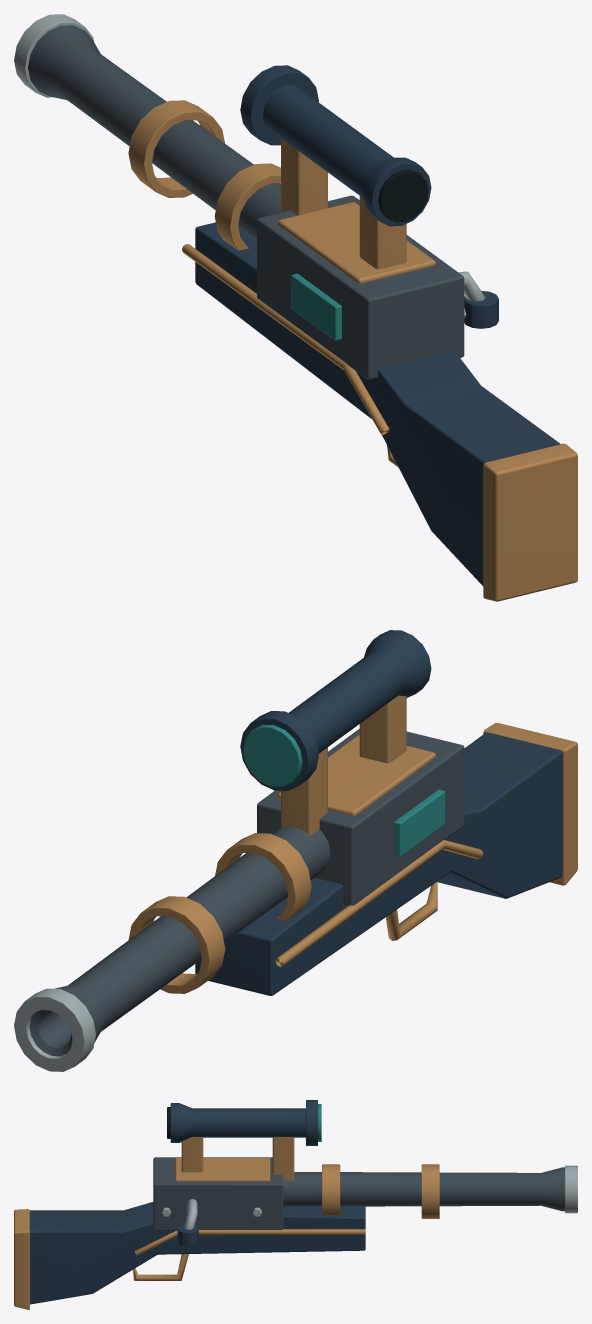
File: rifle.glb
3 renders of one model, top to bottom at view 1: azimuth 30°, elevation 25°; view 2: azimuth 150°, elevation 25°; view 3: azimuth 270°, elevation 25°, orthographic. The views are drawn at different scales.
Visible parts, largest first — view 1: rifle__navy_stock, rifle__receiver, rifle__precision_barrel, rifle__butt_plate, rifle__optic_tube, rifle__breech_cover, rifle__floating_barrel_brace_0, rifle__optic_pedestal_0, rifle__foregrip_trim_neg0p072, rifle__floating_barrel_brace_1, rifle__optic_pedestal_1, rifle__optic_back_lens (+3 smaller); view 2: rifle__navy_stock, rifle__precision_barrel, rifle__receiver, rifle__optic_tube, rifle__breech_cover, rifle__muzzle_crown, rifle__floating_barrel_brace_0, rifle__butt_plate, rifle__floating_barrel_brace_1, rifle__optic_front_lens, rifle__optic_pedestal_1, rifle__optic_pedestal_0 (+3 smaller); view 3: rifle__navy_stock, rifle__precision_barrel, rifle__receiver, rifle__optic_tube, rifle__breech_cover, rifle__butt_plate, rifle__foregrip_trim_0p072, rifle__floating_barrel_brace_0, rifle__floating_barrel_brace_1, rifle__optic_pedestal_0, rifle__optic_pedestal_1, rifle__muzzle_crown (+3 smaller).
Boxes of the visible parts, bbox=[...] form: rifle__navy_stock: bbox=[195, 222, 560, 586]; rifle__receiver: bbox=[257, 195, 464, 379]; rifle__precision_barrel: bbox=[28, 25, 280, 240]; rifle__butt_plate: bbox=[483, 443, 577, 601]; rifle__optic_tube: bbox=[240, 65, 431, 226]; rifle__breech_cover: bbox=[278, 202, 435, 283]; rifle__floating_barrel_brace_0: bbox=[128, 100, 224, 197]; rifle__optic_pedestal_0: bbox=[281, 138, 327, 215]; rifle__foregrip_trim_neg0p072: bbox=[182, 244, 389, 434]; rifle__floating_barrel_brace_1: bbox=[214, 163, 280, 250]; rifle__optic_pedestal_1: bbox=[359, 196, 406, 269]; rifle__optic_back_lens: bbox=[378, 169, 428, 222]; rifle__navy_stock: bbox=[195, 732, 562, 995]; rifle__precision_barrel: bbox=[29, 826, 330, 1056]; rifle__receiver: bbox=[257, 729, 464, 905]; rifle__optic_tube: bbox=[240, 630, 431, 790]; rifle__breech_cover: bbox=[278, 734, 435, 815]; rifle__muzzle_crown: bbox=[14, 988, 95, 1071]; rifle__floating_barrel_brace_0: bbox=[128, 896, 225, 993]; rifle__butt_plate: bbox=[483, 722, 577, 885]; rifle__floating_barrel_brace_1: bbox=[215, 833, 311, 920]; rifle__optic_front_lens: bbox=[243, 724, 302, 786]; rifle__optic_pedestal_1: bbox=[359, 695, 406, 763]; rifle__optic_pedestal_0: bbox=[281, 747, 327, 835]; rifle__navy_stock: bbox=[29, 1202, 365, 1304]; rifle__precision_barrel: bbox=[283, 1167, 564, 1211]; rifle__receiver: bbox=[153, 1157, 283, 1230]; rifle__optic_tube: bbox=[170, 1100, 317, 1145]; rifle__breech_cover: bbox=[175, 1158, 270, 1181]; rifle__butt_plate: bbox=[14, 1209, 29, 1309]; rifle__foregrip_trim_0p072: bbox=[134, 1229, 365, 1255]; rifle__floating_barrel_brace_0: bbox=[421, 1164, 439, 1218]; rifle__floating_barrel_brace_1: bbox=[322, 1164, 340, 1215]; rifle__optic_pedestal_0: bbox=[272, 1137, 294, 1180]; rifle__optic_pedestal_1: bbox=[181, 1137, 203, 1172]; rifle__muzzle_crown: bbox=[565, 1165, 577, 1213].
Size of the model in its own units: 0.2538 by 0.501 by 1.3.
